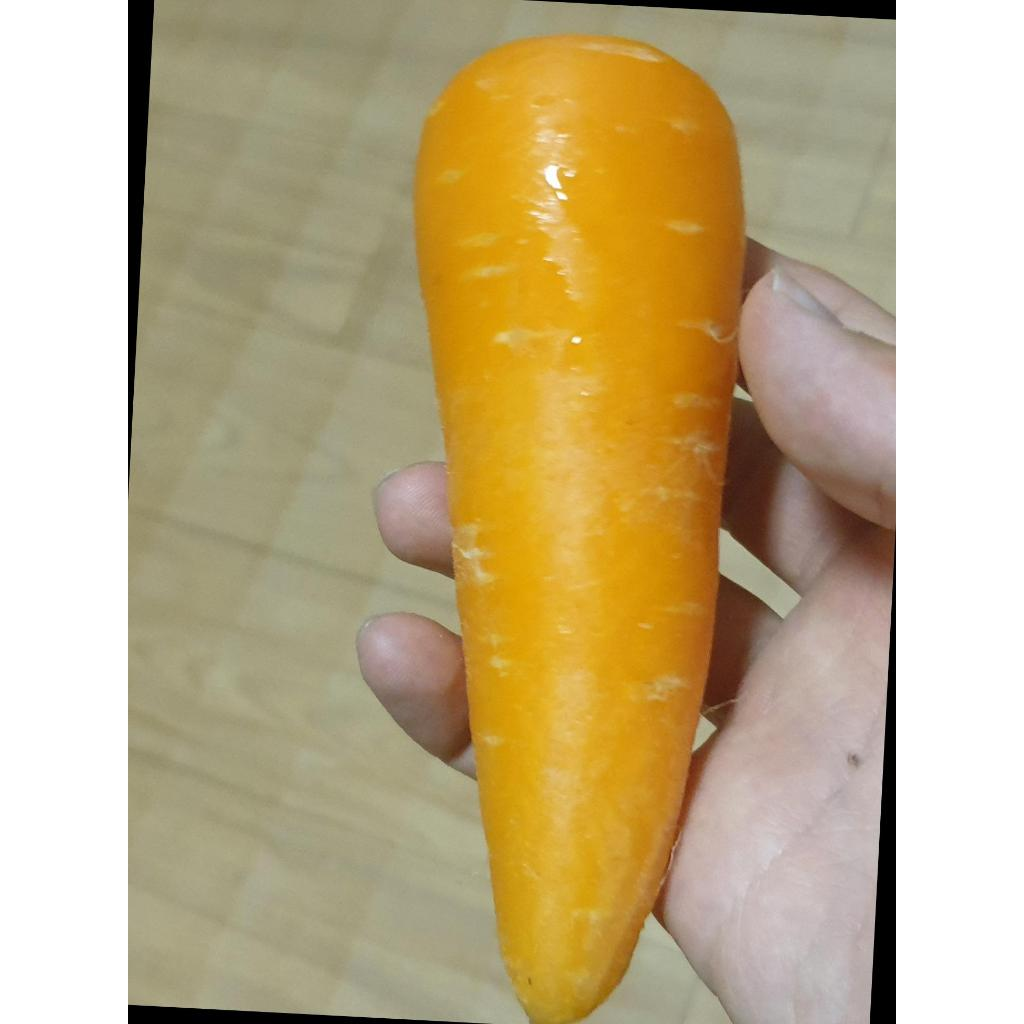carrot: (414, 36, 744, 1024)
